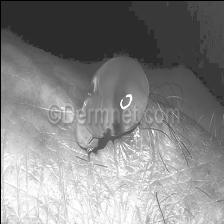Toxin: (74, 54, 150, 102), (72, 128, 164, 162)
